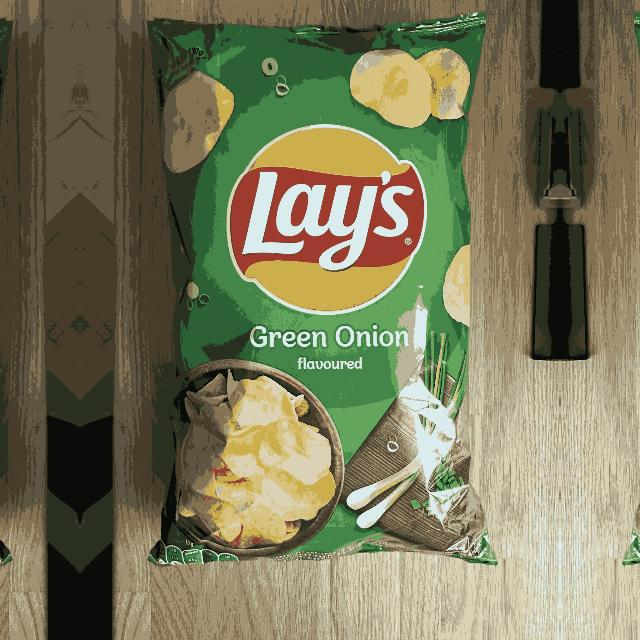lays: (227, 125, 427, 316)
